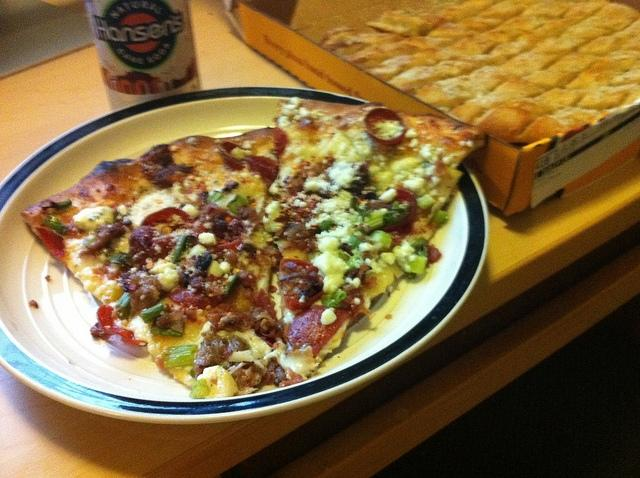broccoli: (364, 208, 403, 228), (226, 193, 252, 215), (408, 256, 428, 274), (348, 232, 366, 251)
